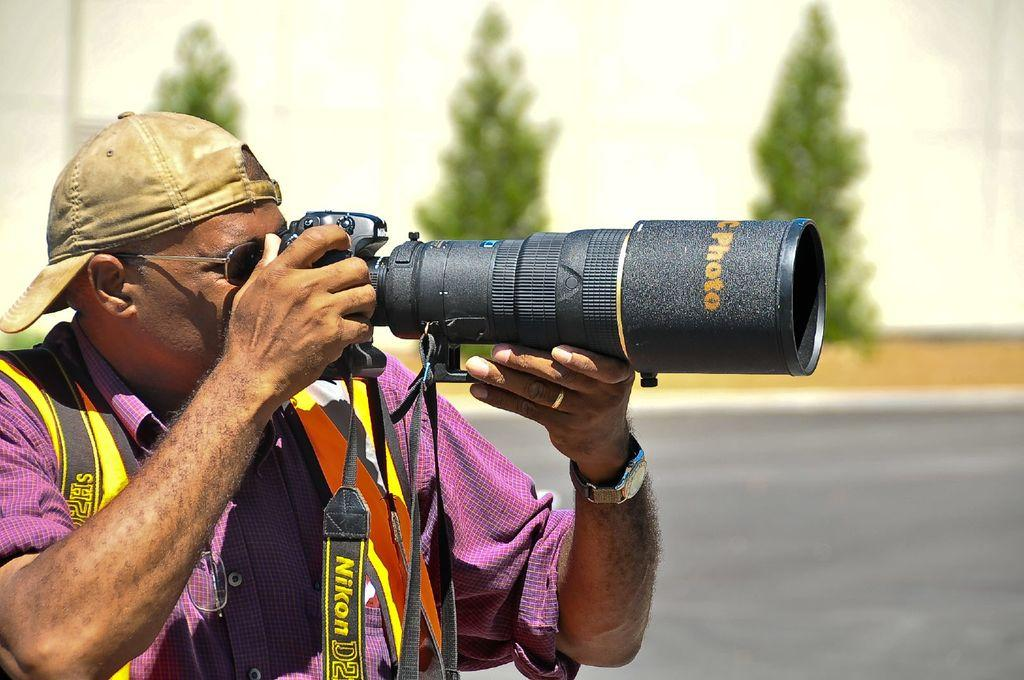Hat: (0, 109, 282, 334)
